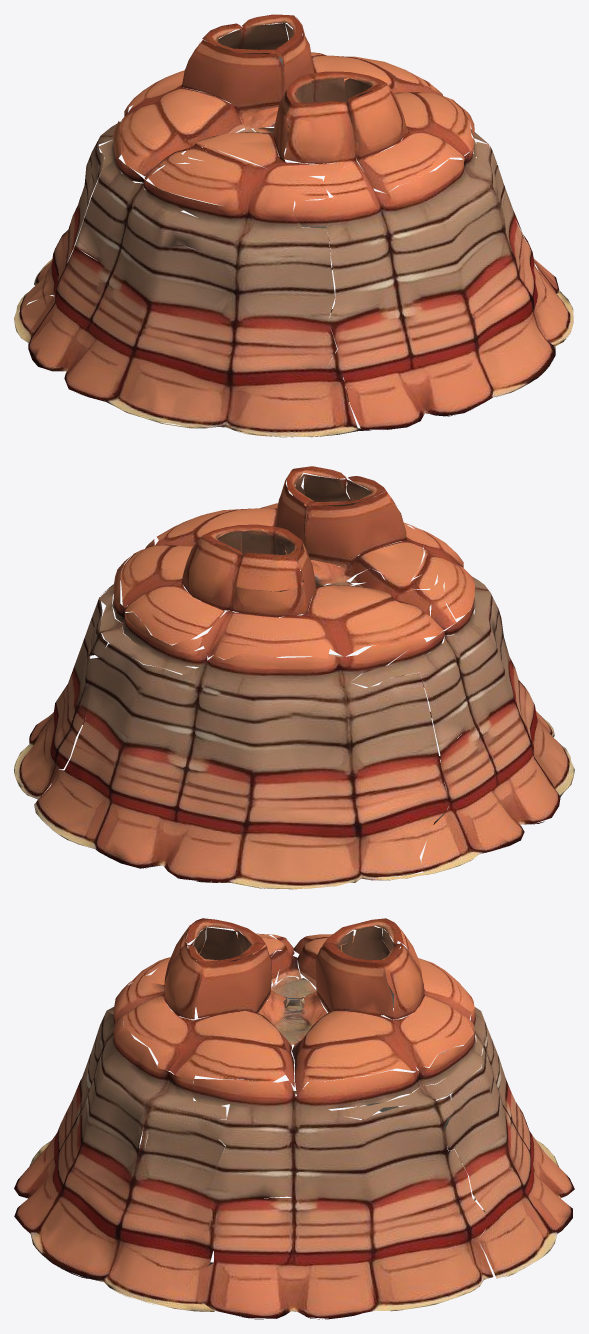
File: kanyon_mesa.glb
The picture shows the model from 3 angles, top to bottom: view 1: azimuth 30°, elevation 25°; view 2: azimuth 150°, elevation 25°; view 3: azimuth 270°, elevation 25°; orthographic projection.
Parts seen in each view (by area): view 1: geometry_0; view 2: geometry_0; view 3: geometry_0.
Boxes of the visible parts, x1,y1,x2,y2 form: geometry_0: (14,14,573,437); geometry_0: (14,466,574,889); geometry_0: (14,918,574,1319).
Size of the model in its own units: 0.9873 by 0.5272 by 0.9877.
1 material, 1 textured.
